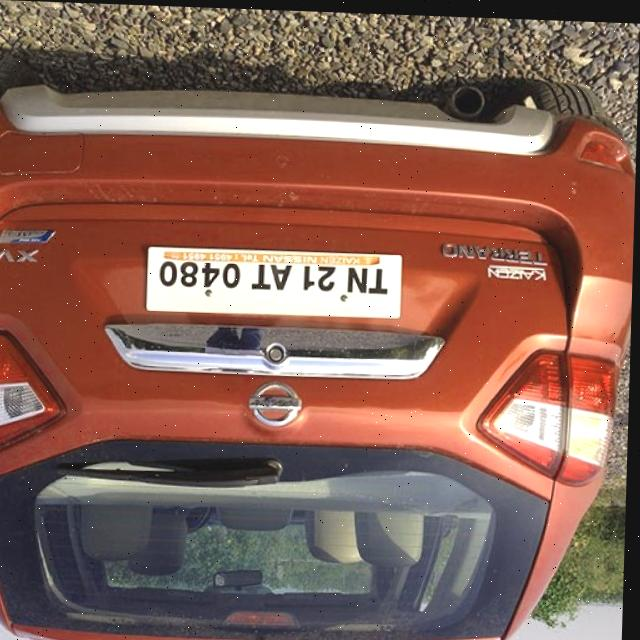plate: (145, 243, 407, 321)
